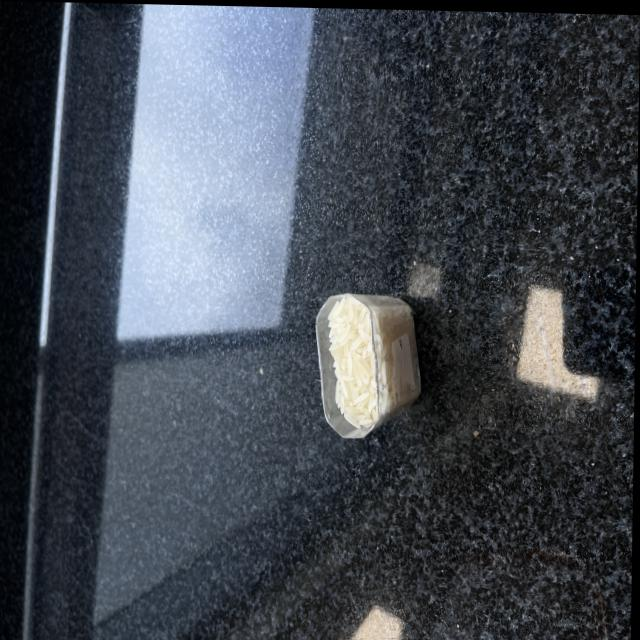raw_rice: (328, 288, 425, 429)
